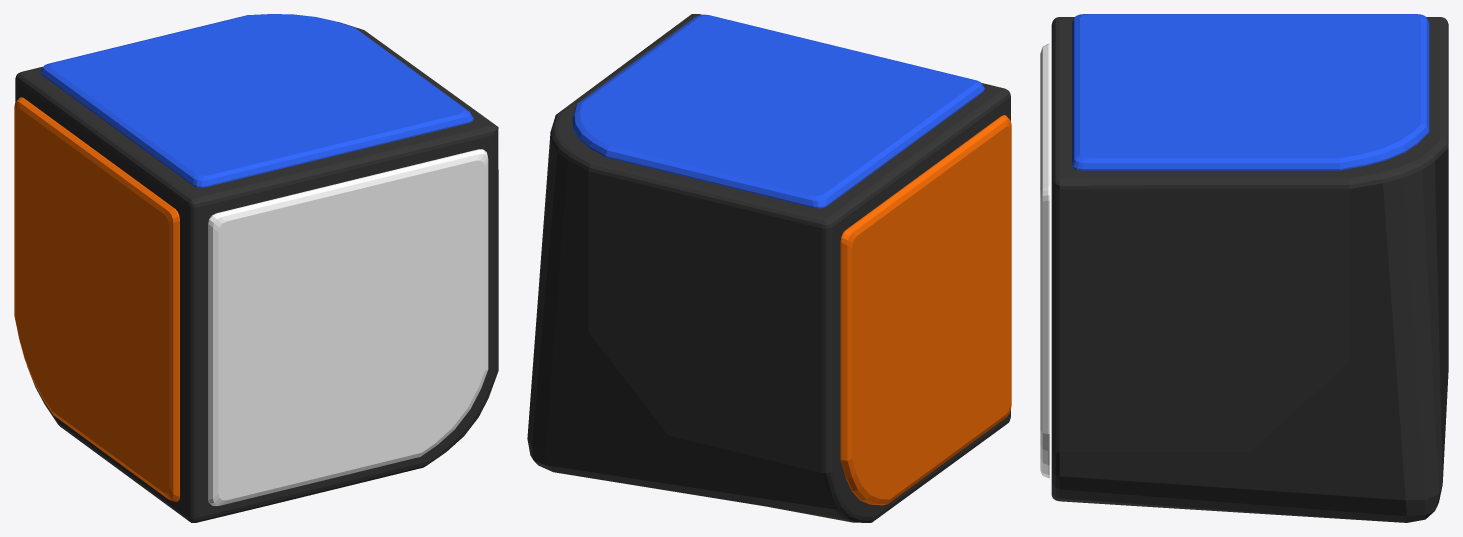
3 views of the same model, side by side, from view 1: azimuth 30°, elevation 25°; view 2: azimuth 150°, elevation 25°; view 3: azimuth 270°, elevation 25° (orthographic). The views are drawn at different scales.
Visible parts, largest first — view 1: Cube.070, Cube.056, Cube.059, Cube.000; view 2: Cube.000, Cube.056, Cube.059; view 3: Cube.000, Cube.059, Cube.070.
Part boxes in pixels (x1=…): Cube.070: x1=208, y1=149, x2=488, y2=505; Cube.056: x1=14, y1=97, x2=179, y2=501; Cube.059: x1=40, y1=14, x2=473, y2=187; Cube.000: x1=15, y1=21, x2=498, y2=522; Cube.000: x1=527, y1=14, x2=1010, y2=522; Cube.056: x1=840, y1=115, x2=1011, y2=505; Cube.059: x1=572, y1=14, x2=984, y2=208; Cube.000: x1=1051, y1=17, x2=1448, y2=522; Cube.059: x1=1072, y1=14, x2=1429, y2=170; Cube.070: x1=1040, y1=43, x2=1049, y2=478.
Bounding box in the file's own units: 207 × 206 × 206.
